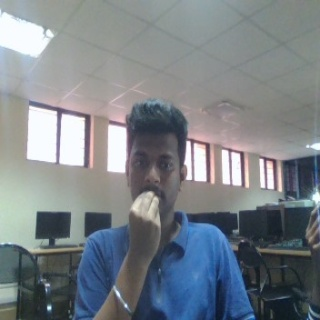Food: (125, 190, 163, 275)
